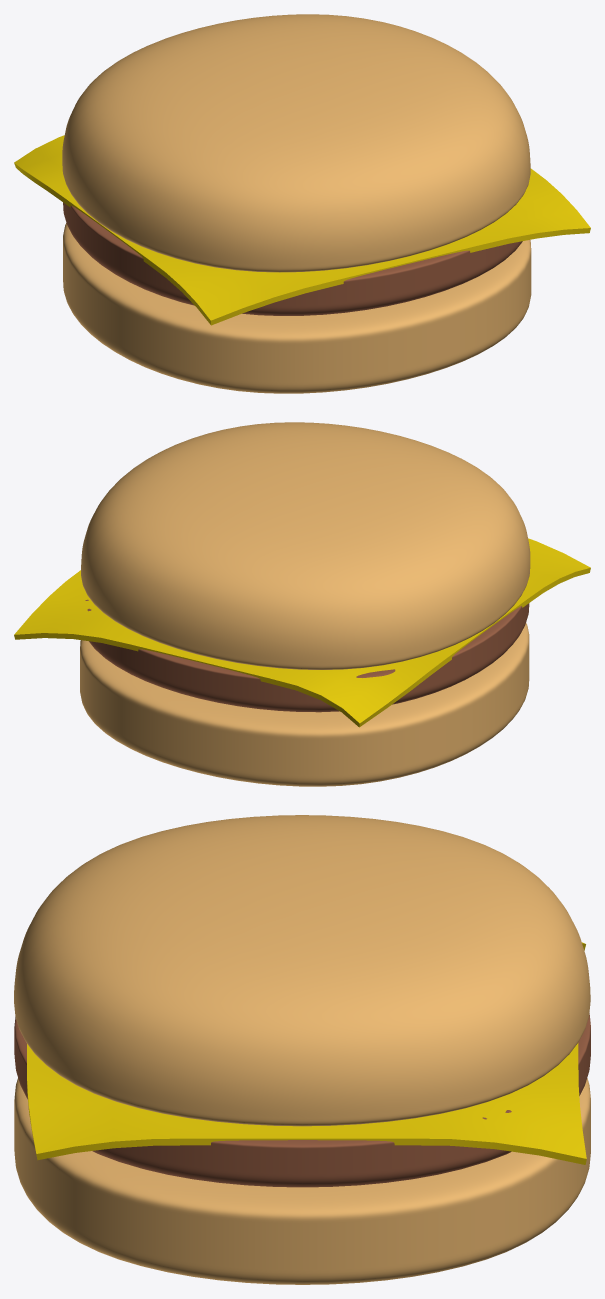
File: hamburger.glb
3 renders of one model, top to bottom at view 1: azimuth 30°, elevation 25°; view 2: azimuth 150°, elevation 25°; view 3: azimuth 270°, elevation 25°, orthographic. The views are drawn at different scales.
Parts seen in each view (by area): view 1: Cube.002, Cube, Plane, Cube.001; view 2: Cube.002, Cube, Plane, Cube.001; view 3: Cube.002, Cube, Plane, Cube.001.
Part boxes in pixels (x1=…): Cube.002: x1=62, y1=14, x2=530, y2=272; Cube: x1=63, y1=223, x2=531, y2=393; Plane: x1=14, y1=135, x2=590, y2=325; Cube.001: x1=63, y1=202, x2=522, y2=315; Cube.002: x1=81, y1=422, x2=530, y2=669; Cube: x1=80, y1=623, x2=529, y2=786; Plane: x1=14, y1=538, x2=590, y2=727; Cube.001: x1=85, y1=599, x2=529, y2=712; Cube.002: x1=14, y1=815, x2=590, y2=1126; Cube: x1=14, y1=1078, x2=590, y2=1284; Plane: x1=27, y1=942, x2=586, y2=1164; Cube.001: x1=14, y1=1013, x2=590, y2=1187.
Bounding box in the file's own units: 10.88 × 6.18 × 10.87.
